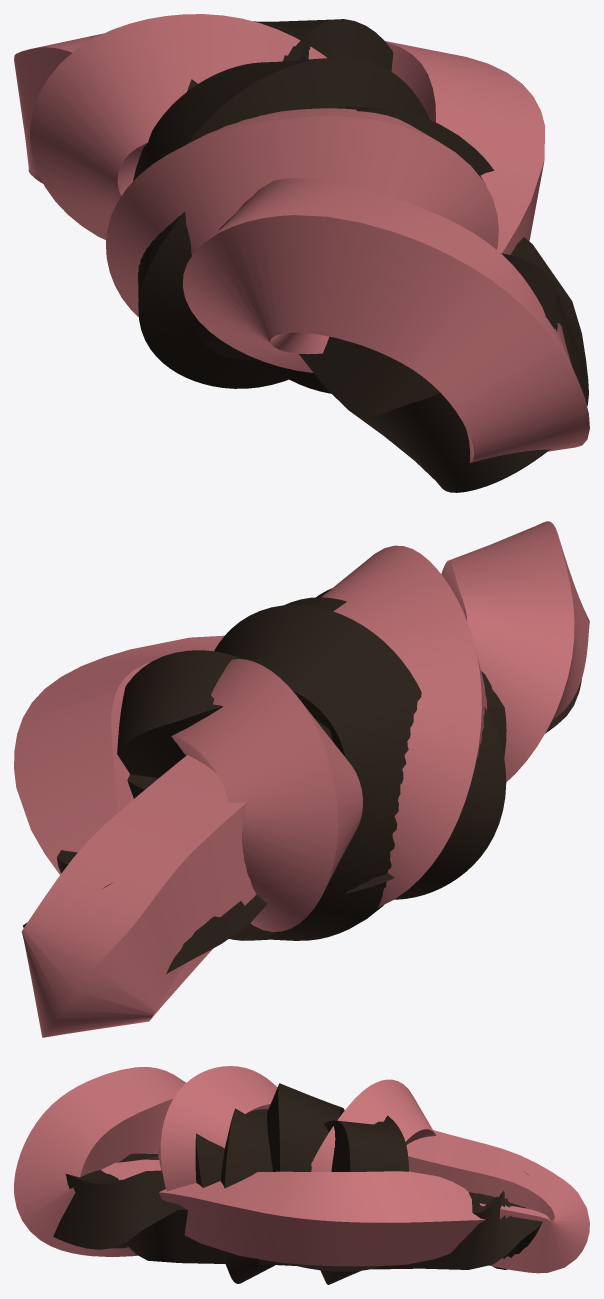
3 renders of one model, top to bottom at view 1: azimuth 30°, elevation 25°; view 2: azimuth 150°, elevation 25°; view 3: azimuth 270°, elevation 25°, orthographic. The views are drawn at different scales.
Parts seen in each view (by area): view 1: flight3; view 2: flight3; view 3: flight3.
Boxes of the visible parts, x1,y1,x2,y2 form: flight3: (14, 14, 589, 492); flight3: (14, 521, 589, 1037); flight3: (14, 1066, 589, 1284).
Size of the model in its own units: 45.2 by 33.48 by 91.91.
